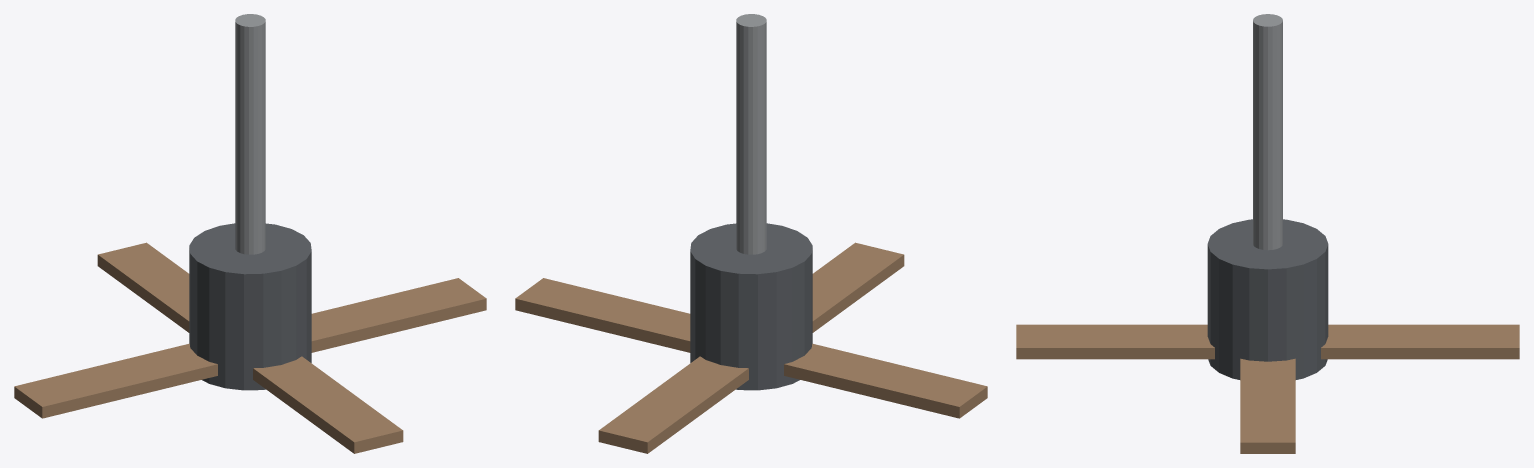
File: ceiling_fan.glb
3 views of the same model, side by side, from view 1: azimuth 30°, elevation 25°; view 2: azimuth 150°, elevation 25°; view 3: azimuth 270°, elevation 25° (orthographic).
Visible parts, largest first — view 1: Fan_Motor_1, Fan_Blades_X_2, Fan_Blades_Z_3, Fan_Stem_0; view 2: Fan_Motor_1, Fan_Blades_X_2, Fan_Blades_Z_3, Fan_Stem_0; view 3: Fan_Motor_1, Fan_Blades_Z_3, Fan_Stem_0, Fan_Blades_X_2.
Boxes of the visible parts, bbox=[...] form: Fan_Motor_1: bbox=[189, 223, 311, 390]; Fan_Blades_X_2: bbox=[14, 278, 486, 418]; Fan_Blades_Z_3: bbox=[97, 242, 403, 453]; Fan_Stem_0: bbox=[235, 14, 265, 254]; Fan_Motor_1: bbox=[690, 223, 812, 390]; Fan_Blades_X_2: bbox=[515, 278, 987, 418]; Fan_Blades_Z_3: bbox=[598, 242, 904, 453]; Fan_Stem_0: bbox=[736, 14, 766, 254]; Fan_Motor_1: bbox=[1207, 219, 1328, 379]; Fan_Blades_Z_3: bbox=[1016, 324, 1519, 359]; Fan_Stem_0: bbox=[1253, 14, 1282, 250]; Fan_Blades_X_2: bbox=[1240, 358, 1295, 453].
Bounding box in the file's own units: 1 × 0.74 × 1.
